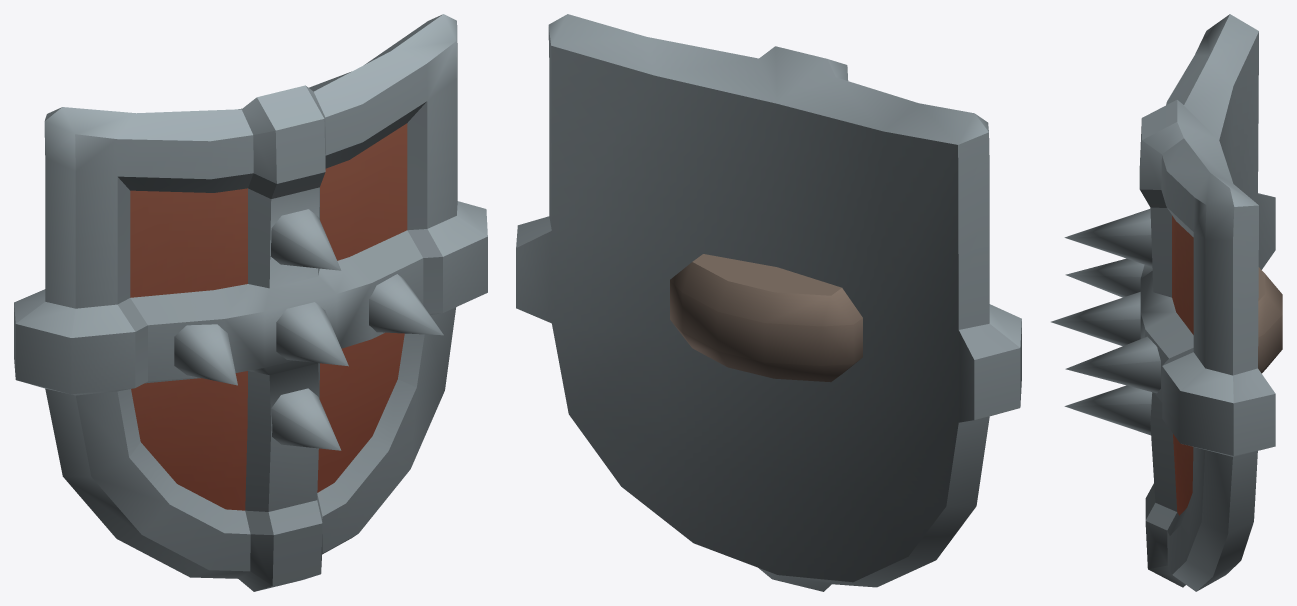
The model's file is shield_spikes.obj.
3 views of the same model, side by side, from view 1: azimuth 30°, elevation 25°; view 2: azimuth 150°, elevation 25°; view 3: azimuth 270°, elevation 25° (orthographic). The views are drawn at different scales.
Visible parts, largest first — view 1: shield_spikes; view 2: shield_spikes; view 3: shield_spikes.
Part boxes in pixels (x1,y1,x2,y2): shield_spikes: [14, 14, 487, 591]; shield_spikes: [516, 14, 1021, 591]; shield_spikes: [1051, 14, 1282, 591].
Bounding box in the file's own units: 1.01 × 1.04 × 0.4598.
Materials: 1 (1 with a texture image).
